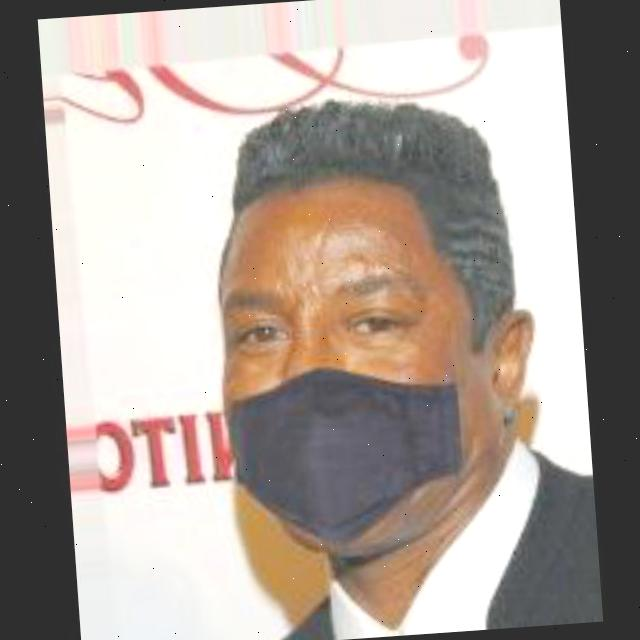suspicion: (170, 105, 569, 522)
